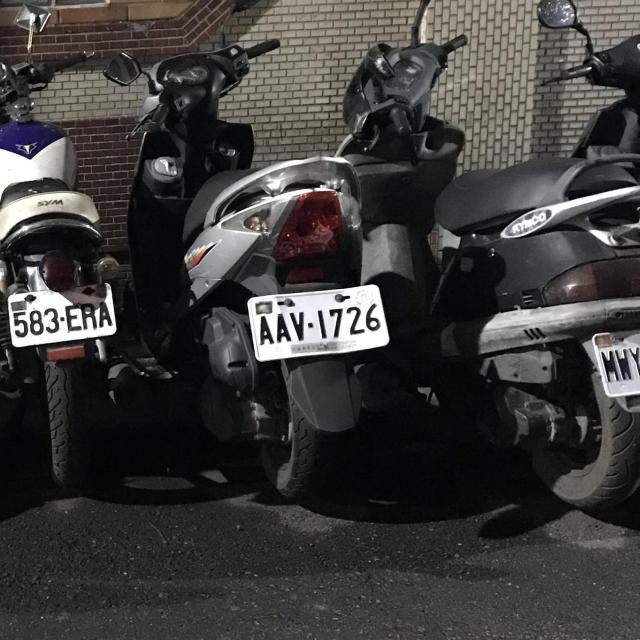W: (246, 283, 390, 363), (5, 280, 119, 350), (587, 307, 640, 402)
